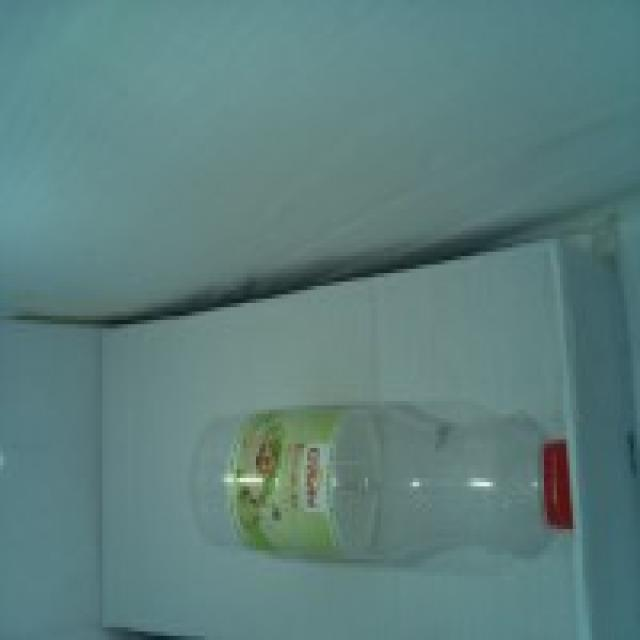Anorganik: (192, 401, 573, 563)
